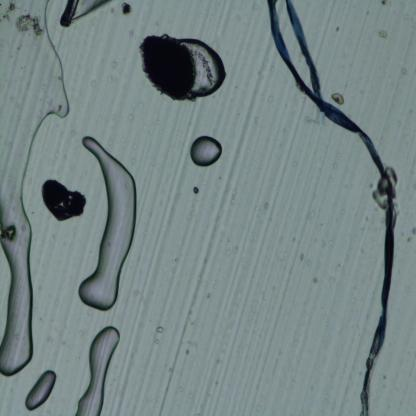Air bubble: (0, 0, 73, 378), (77, 134, 139, 314), (75, 325, 121, 415), (183, 37, 227, 99), (190, 134, 223, 169)
Background material: (139, 34, 195, 104), (40, 178, 87, 221), (59, 0, 113, 29), (14, 11, 44, 38), (373, 177, 389, 210), (0, 3, 20, 23), (384, 165, 398, 189), (296, 250, 312, 267), (152, 321, 162, 345), (332, 92, 344, 106), (120, 4, 133, 16), (407, 226, 416, 243), (310, 272, 320, 284), (378, 30, 389, 38), (381, 0, 389, 7), (192, 187, 200, 194), (260, 200, 268, 207), (332, 160, 338, 168), (352, 294, 356, 305), (184, 352, 190, 356)
Cotton: (266, 0, 398, 416)
